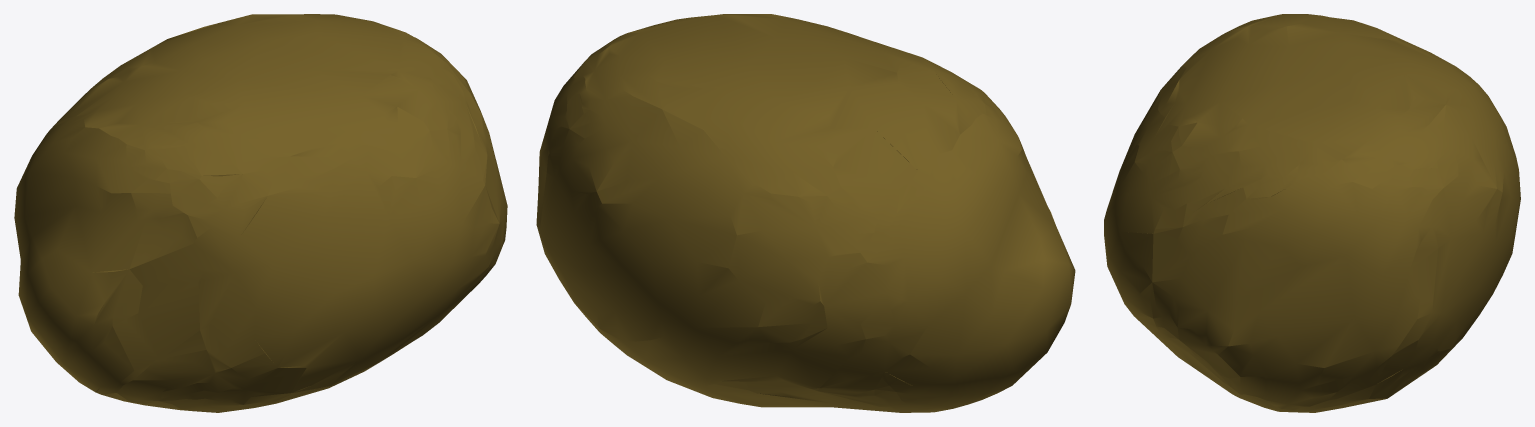
The model's file is potato.fbx.
The picture shows the model from 3 angles, left to right: view 1: azimuth 30°, elevation 25°; view 2: azimuth 150°, elevation 25°; view 3: azimuth 270°, elevation 25°; orthographic projection. The views are drawn at different scales.
Parts seen in each view (by area): view 1: Cube.001; view 2: Cube.001; view 3: Cube.001.
Part boxes in pixels (box(x1,y1,x2,y2)): Cube.001: box(14, 14, 507, 412); Cube.001: box(536, 14, 1075, 412); Cube.001: box(1104, 14, 1520, 412).
Size of the model in its own units: 248 by 167 by 202.
